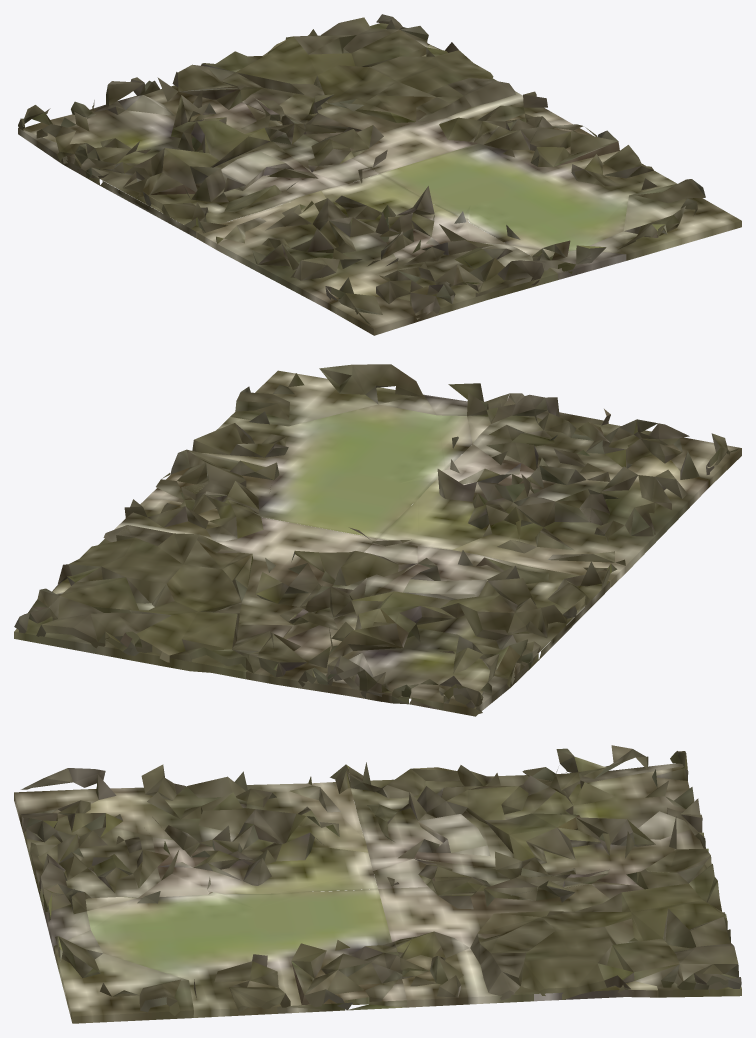
The picture shows the model from 3 angles, top to bottom: view 1: azimuth 30°, elevation 25°; view 2: azimuth 150°, elevation 25°; view 3: azimuth 270°, elevation 25°; orthographic projection. The views are drawn at different scales.
Visible parts, largest first — view 1: Mesh_0; view 2: Mesh_0; view 3: Mesh_0.
Boxes of the visible parts, x1=… form: Mesh_0: x1=18, y1=14, x2=741, y2=335; Mesh_0: x1=14, y1=364, x2=741, y2=716; Mesh_0: x1=14, y1=745, x2=741, y2=1023.
Bounding box in the file's own units: 537 × 45.06 × 659.
Materials: 1 (1 with a texture image).
